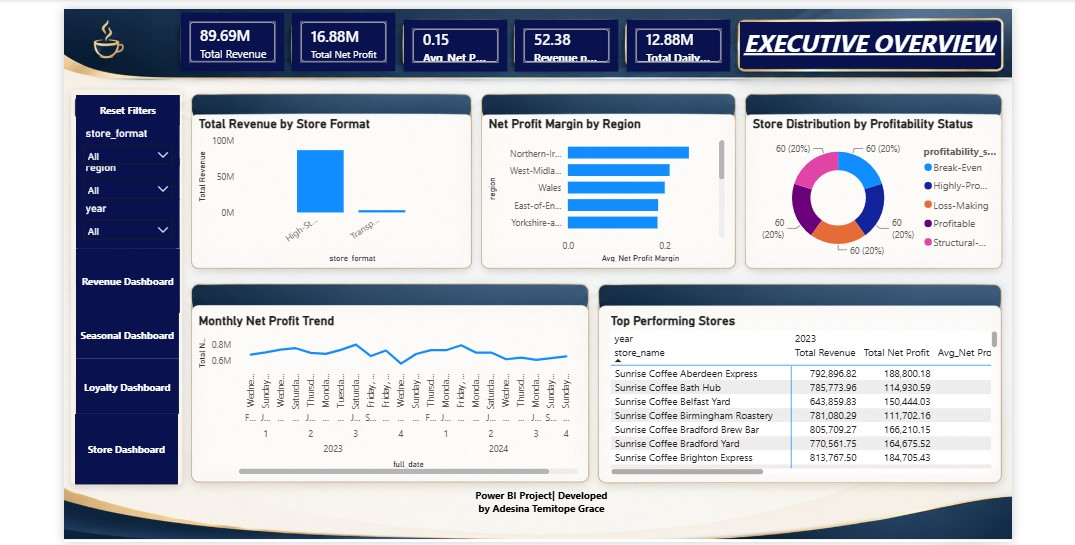

The dashboard page shown, as its layout file describes it:
{"tool":"powerbi","page":{"name":"Executive Overview","canvas":[1280,720],"ordinal":0},"visuals":[{"type":"clusteredColumnChart","title":"Total Revenue by Store Format","fields":{"Category":["dim_store.store_format"],"Y":["Measure Table.Total Revenue"]},"box":[177.5,144.5,367.5,202.3],"z":0},{"type":"clusteredBarChart","title":"Net Profit Margin by Region","fields":{"Category":["dim_store.region"],"Y":["Measure Table.Average Net Profit Margin"]},"box":[569.2,144.6,327.7,201.5],"z":1000},{"type":"donutChart","title":"Store Distribution by Profitability Status","fields":{"Category":["fact_store_monthly_profitability.profitability_status"],"Y":["CountNonNull(dim_store.store_id)"]},"box":[926.3,144.5,340,202.3],"z":2000},{"type":"lineChart","title":"Monthly Net Profit Trend","fields":{"Y":["Measure Table.Total Net Profit"],"Category":["dim_date.Date Hierarchy.year","dim_date.Date Hierarchy.quarter","dim_date.Date Hierarchy.month_name","dim_date.Date Hierarchy.full_date"]},"box":[176.9,410.8,523.1,223.1],"z":3000},{"type":"pivotTable","title":"Top Performing Stores","fields":{"Rows":["dim_store.store_name"],"Columns":["dim_date.year"],"Values":["Measure Table.Total Revenue","Measure Table.Total Net Profit","Measure Table.Average Net Profit Margin"]},"box":[727.1,411.4,538.6,222.9],"z":4000},{"type":"textbox","box":[913.9,17.9,352.3,61.9],"z":5000},{"type":"slicer","fields":{"Values":["dim_date.year"]},"box":[15.7,257.1,140,67.1],"z":6000},{"type":"slicer","fields":{"Values":["dim_store.region"]},"box":[15.7,201.4,140,55.7],"z":7000},{"type":"slicer","fields":{"Values":["dim_store.store_format"]},"box":[15.7,155.7,140,57.1],"z":8000},{"type":"actionButton","title":"Loyalty Dashboard","box":[15.7,472.9,138.6,74.3],"z":9000},{"type":"actionButton","title":"Revenue Dashboard","box":[15.7,324.3,140,85.7],"z":10000},{"type":"actionButton","title":"Store Dashboard","box":[15.1,547.8,139,95],"z":11000},{"type":"actionButton","title":"Seasonal Dashboard","box":[15.7,410,138.6,62.9],"z":12000},{"type":"actionButton","title":"Reset Filters","box":[15.7,115.7,140,40],"z":13000},{"type":"textbox","box":[545,642.8,200.9,63.3],"z":14000},{"type":"cardVisual","title":"Total Revenue","fields":{"Data":["Measure Table.Total Revenue"]},"box":[152.8,0,150,89.5],"z":15000},{"type":"cardVisual","title":"Total Revenue","fields":{"Data":["Measure Table.Total Net Profit"]},"box":[303.1,0,150.8,89.2],"z":16000},{"type":"cardVisual","title":"Total Revenue","fields":{"Data":["Measure Table.Average Net Profit Margin"]},"box":[453.8,9.2,150.8,80],"z":17000},{"type":"cardVisual","title":"Total Revenue","fields":{"Data":["Measure Table.Revenue per Sq Ft"]},"box":[604.6,9.2,150.8,80],"z":18000},{"type":"cardVisual","title":"Total Revenue","fields":{"Data":["Measure Table.Total Daily Gross Profit"]},"box":[755.4,9.2,150.8,80],"z":19000}]}

Visuals, with their boxes on the page's 1280x720 design canvas (x1, y1, x2, y2). These are canvas units, not pixel positions in the 1075x545 screenshot, which may show the page scaled, cropped or inside an application window:
"Total Revenue by Store Format" clusteredColumnChart: Rect(178, 144, 545, 347)
"Net Profit Margin by Region" clusteredBarChart: Rect(569, 145, 897, 346)
"Store Distribution by Profitability Status" donutChart: Rect(926, 144, 1266, 347)
"Monthly Net Profit Trend" lineChart: Rect(177, 411, 700, 634)
"Top Performing Stores" pivotTable: Rect(727, 411, 1266, 634)
textbox: Rect(914, 18, 1266, 80)
slicer - dim_date.year: Rect(16, 257, 156, 324)
slicer - dim_store.region: Rect(16, 201, 156, 257)
slicer - dim_store.store_format: Rect(16, 156, 156, 213)
"Loyalty Dashboard" actionButton: Rect(16, 473, 154, 547)
"Revenue Dashboard" actionButton: Rect(16, 324, 156, 410)
"Store Dashboard" actionButton: Rect(15, 548, 154, 643)
"Seasonal Dashboard" actionButton: Rect(16, 410, 154, 473)
"Reset Filters" actionButton: Rect(16, 116, 156, 156)
textbox: Rect(545, 643, 746, 706)
"Total Revenue" cardVisual: Rect(153, 0, 303, 90)
"Total Revenue" cardVisual: Rect(303, 0, 454, 89)
"Total Revenue" cardVisual: Rect(454, 9, 605, 89)
"Total Revenue" cardVisual: Rect(605, 9, 755, 89)
"Total Revenue" cardVisual: Rect(755, 9, 906, 89)
